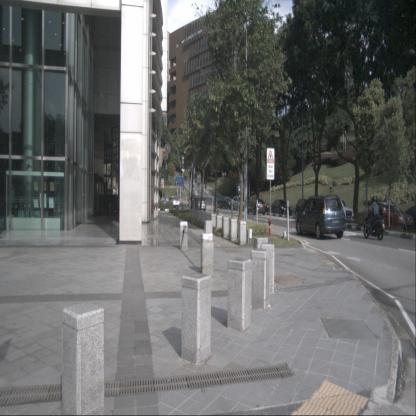vehicle-car: (295, 194, 346, 240), (362, 201, 414, 233), (318, 198, 355, 228), (295, 198, 316, 221), (270, 199, 292, 217), (245, 197, 266, 215), (232, 196, 247, 212), (191, 197, 206, 212), (218, 196, 234, 209), (168, 196, 180, 208)
vehicle-motorcycle: (363, 195, 387, 240)
